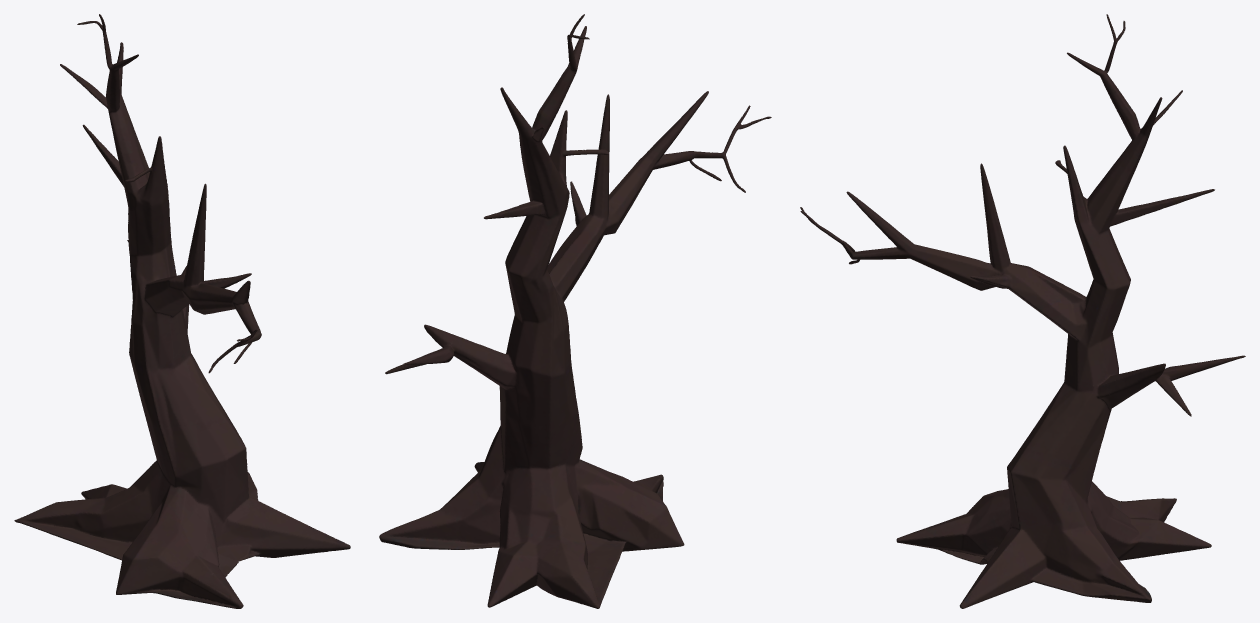
File: dead_tree.glb
The picture shows the model from 3 angles, left to right: view 1: azimuth 30°, elevation 25°; view 2: azimuth 150°, elevation 25°; view 3: azimuth 270°, elevation 25°; orthographic projection. The views are drawn at different scales.
Parts seen in each view (by area): view 1: tripo_node_025a8609-ed5a-4076-8ecc-0ac5d8eb3c2d; view 2: tripo_node_025a8609-ed5a-4076-8ecc-0ac5d8eb3c2d; view 3: tripo_node_025a8609-ed5a-4076-8ecc-0ac5d8eb3c2d.
Part boxes in pixels (bbox=[...]): tripo_node_025a8609-ed5a-4076-8ecc-0ac5d8eb3c2d: bbox=[14, 14, 350, 608]; tripo_node_025a8609-ed5a-4076-8ecc-0ac5d8eb3c2d: bbox=[379, 14, 771, 608]; tripo_node_025a8609-ed5a-4076-8ecc-0ac5d8eb3c2d: bbox=[800, 14, 1245, 608].
Size of the model in its own units: 0.4385 by 1 by 0.7654.
1 material, 1 textured.
